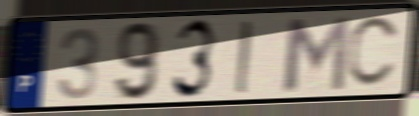3: (168, 16, 226, 101), (56, 26, 101, 101)
9: (114, 20, 162, 103)
C: (345, 14, 403, 91)
I: (233, 18, 254, 97)
M: (282, 14, 352, 94)
